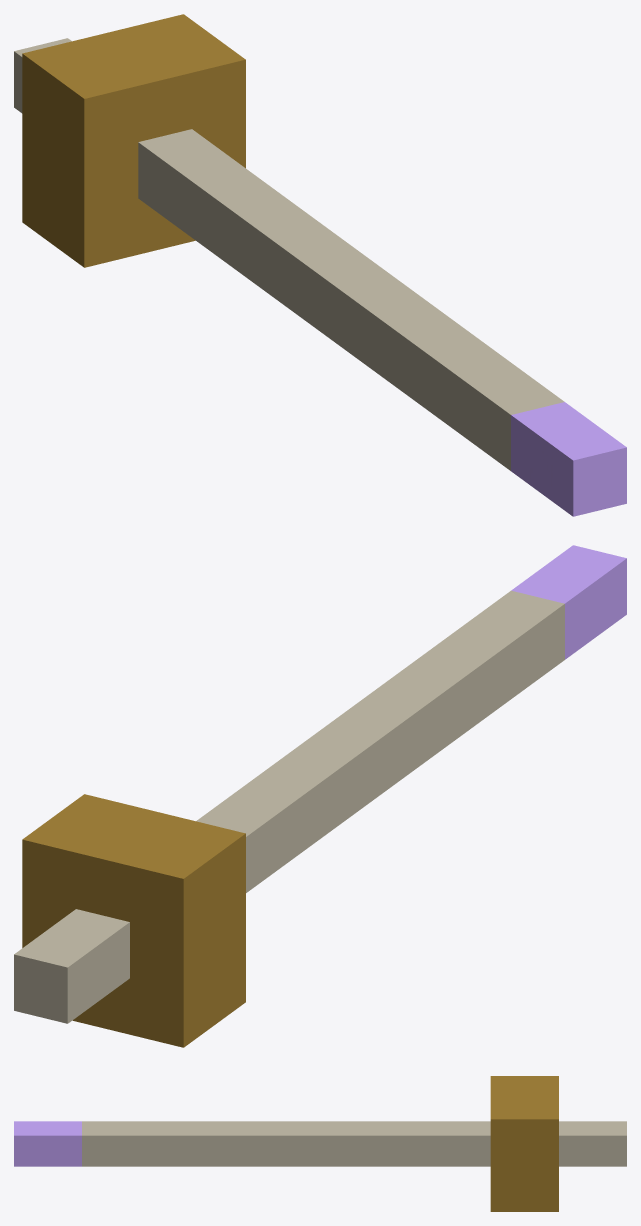
The model's file is vox_wand_ivory.glb.
3 renders of one model, top to bottom at view 1: azimuth 30°, elevation 25°; view 2: azimuth 150°, elevation 25°; view 3: azimuth 270°, elevation 25°, orthographic. The views are drawn at different scales.
Visible parts, largest first — view 1: vox_wand_ivory; view 2: vox_wand_ivory; view 3: vox_wand_ivory.
Part boxes in pixels (x1,y1,x2,y2): vox_wand_ivory: [14, 14, 626, 516]; vox_wand_ivory: [14, 545, 626, 1047]; vox_wand_ivory: [14, 1076, 626, 1211].
Size of the model in its own units: 0.06 by 0.06 by 0.36.
